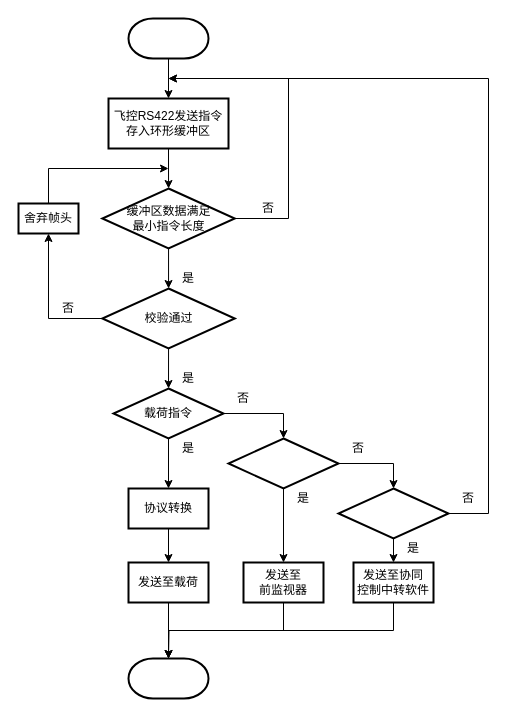
Some shapes in this 514 by 716 pixel diagram are drawn without their labels. Each missing label, with the box of its shape:
前监视器指令: (227, 437, 339, 489)
协同控制指令: (337, 487, 449, 539)
开始: (127, 17, 209, 59)
结束: (127, 657, 209, 699)
